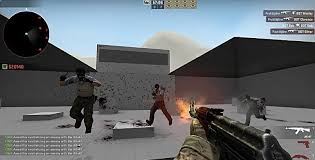gun: (184, 97, 295, 159)
